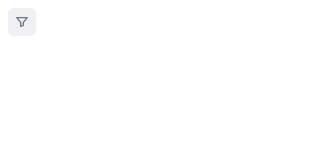
Scenario: TripleState › переключает три состояния с одним значком и актуальным доступным описанием
Click the button named "Фильтр": (22, 22) [8,8,36,36]
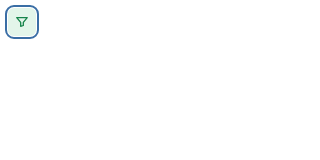
Result: the button named "Фильтр" has attribute data-state="on"
Click the button named "Фильтр": (22, 22) [8,8,36,36]
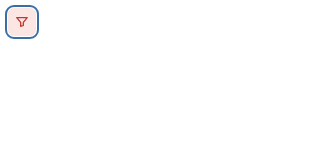
Result: the button named "Фильтр" has attribute data-state="off"
Click the button named "Фильтр": (22, 22) [8,8,36,36]
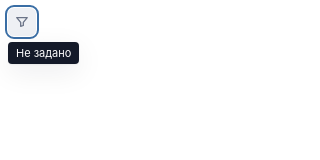
Result: the button named "Фильтр" has attribute data-state="unset" at [8,8,36,36]
